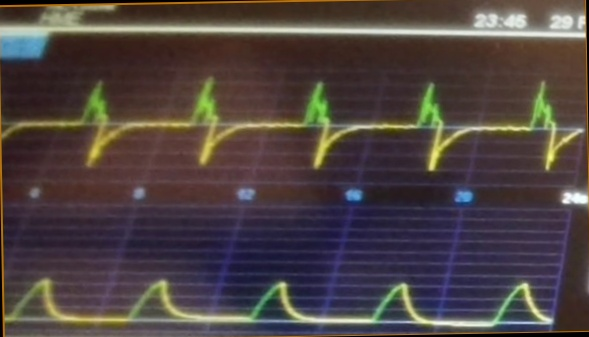Accumulation Flow: (4, 70, 582, 178)
Volume: (7, 262, 554, 330)
